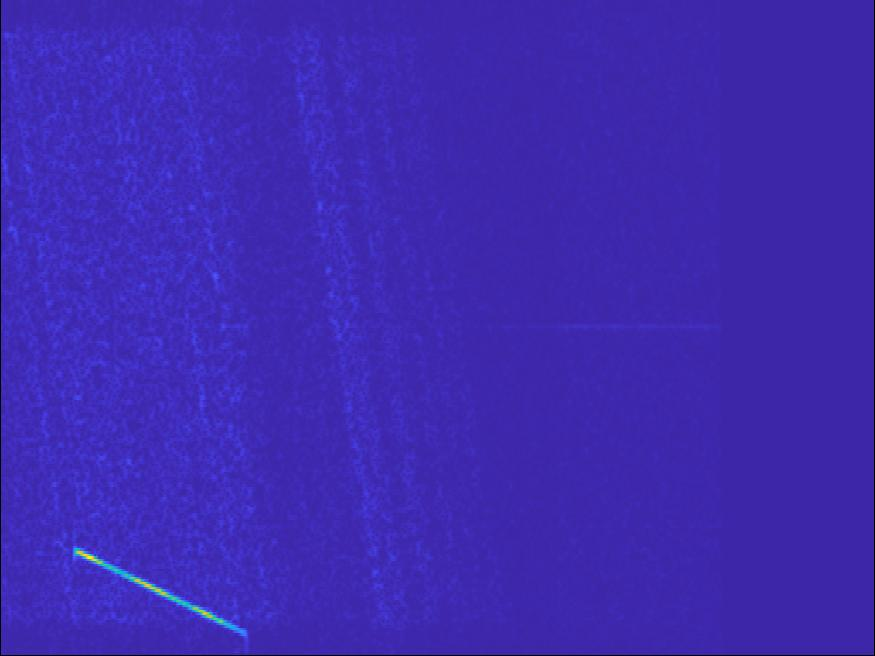Interference: (467, 327, 673, 486), (440, 84, 545, 132), (342, 305, 437, 344)
